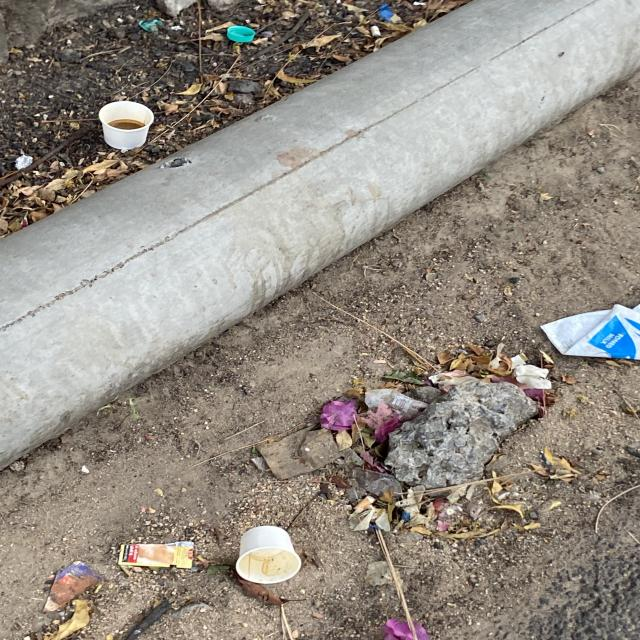paper: (235, 527, 300, 585), (98, 100, 153, 150), (117, 542, 193, 570)
plastic: (541, 304, 640, 360), (226, 24, 255, 41)
